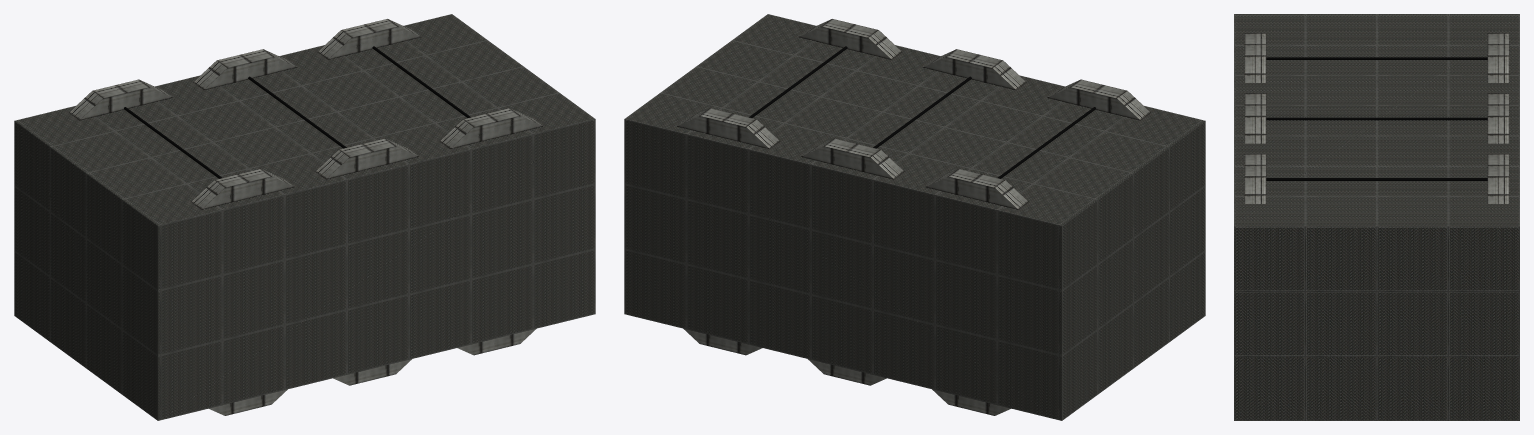
The picture shows the model from 3 angles, left to right: view 1: azimuth 30°, elevation 25°; view 2: azimuth 150°, elevation 25°; view 3: azimuth 270°, elevation 25°; orthographic projection.
Visible parts, largest first — view 1: node_id26 (×10), node_id23; view 2: node_id26 (×10), node_id23; view 3: node_id26 (×10), node_id23.
Part boxes in pixels (bbox=[...]): node_id26 (×10): bbox=[17, 14, 595, 420]; node_id23: bbox=[14, 120, 160, 420]; node_id26 (×10): bbox=[624, 14, 1202, 420]; node_id23: bbox=[1059, 120, 1205, 420]; node_id26 (×10): bbox=[1234, 15, 1519, 420]; node_id23: bbox=[1234, 14, 1519, 15].
Bounding box in the file's own units: 0.512 × 0.2551 × 0.2909.
21 materials, 15 textured.
